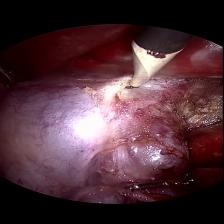Grasper: (1, 59, 25, 87)
Hook: (112, 37, 180, 93)
